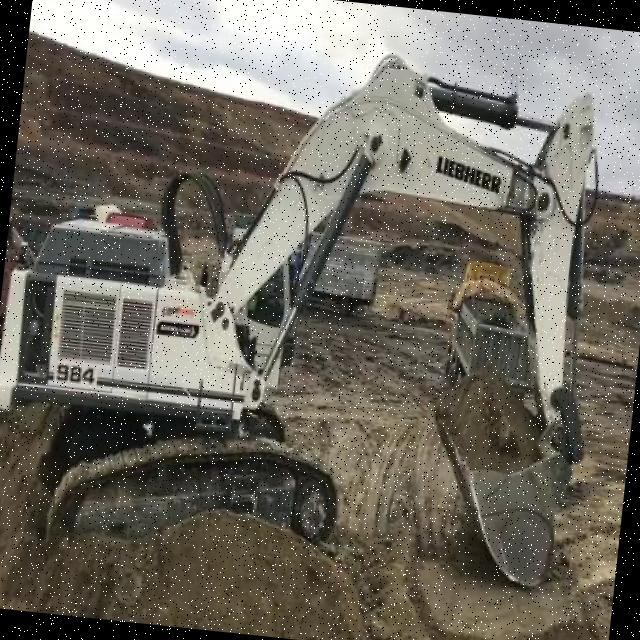Dump Truck: (437, 255, 541, 405), (296, 230, 382, 317)
Excavator: (0, 12, 622, 612)
